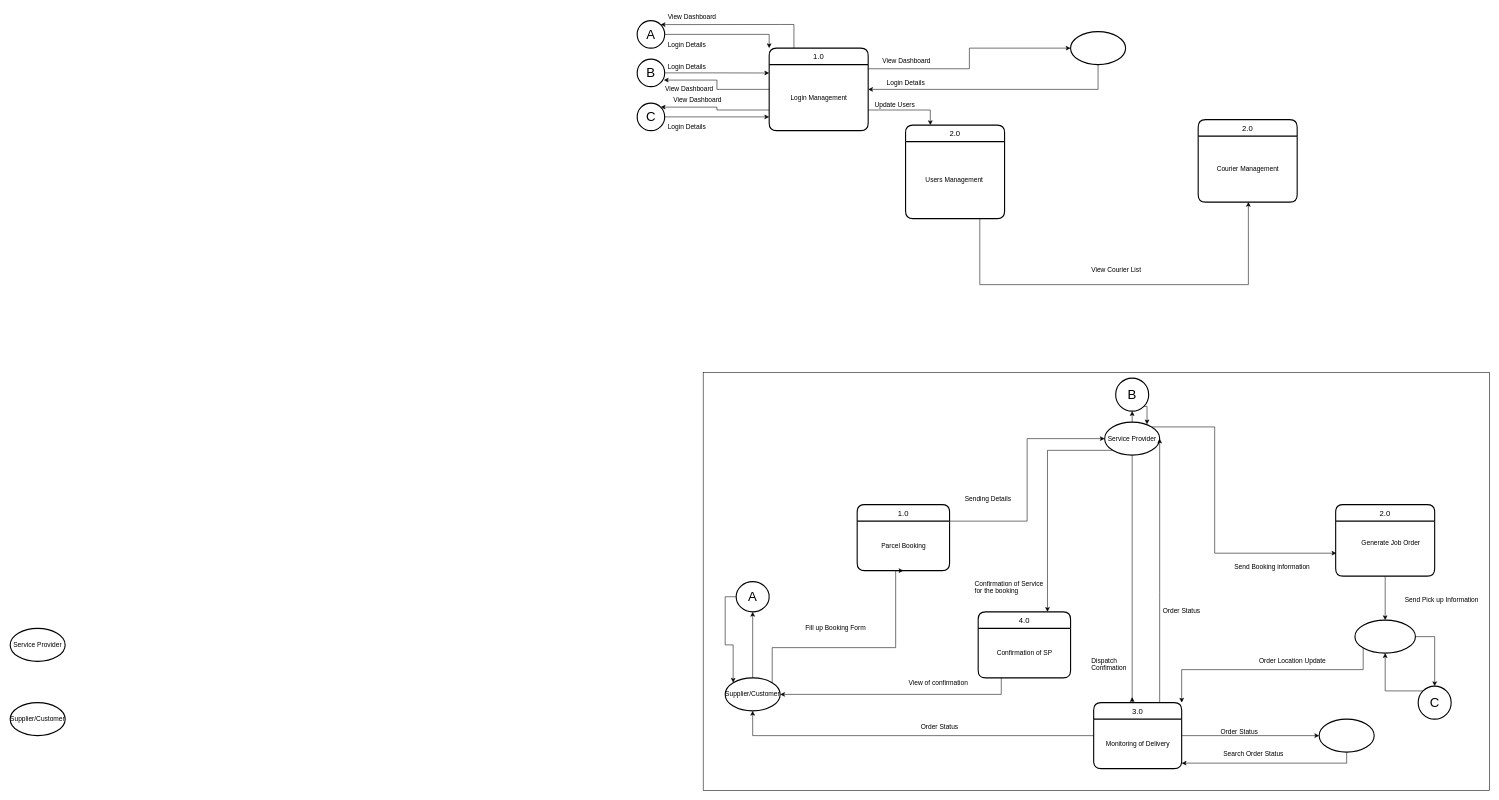
This 1499x800 diagram has some shape labels left out. The shapes that lost their labels are listed below. From the top down, each one's box as (x1, y1, x2, y2) in pixels, then its label:
(1070, 31, 1126, 65): Admin
(1354, 619, 1416, 653): Rider
(1318, 718, 1374, 752): Client
